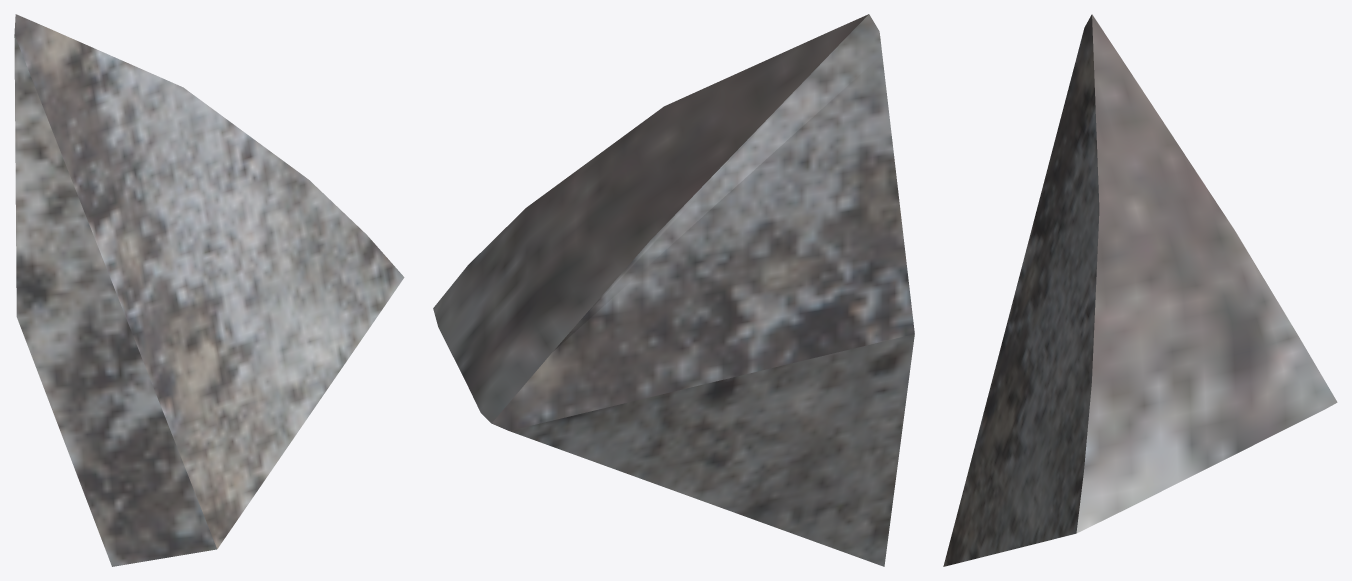
File: Asteroid_Large_001_02_006_03_008.fbx
3 renders of one model, left to right at view 1: azimuth 30°, elevation 25°; view 2: azimuth 150°, elevation 25°; view 3: azimuth 270°, elevation 25°, orthographic. The views are drawn at different scales.
Visible parts, largest first — view 1: Asteroid_Large_001_02_006_03_008; view 2: Asteroid_Large_001_02_006_03_008; view 3: Asteroid_Large_001_02_006_03_008.
Part boxes in pixels (left/top/right/bottom): Asteroid_Large_001_02_006_03_008: left=14, top=14, right=404, bottom=566; Asteroid_Large_001_02_006_03_008: left=433, top=14, right=914, bottom=566; Asteroid_Large_001_02_006_03_008: left=943, top=14, right=1337, bottom=566.
Bounding box in the file's own units: 4.22 × 5.27 × 3.72.
